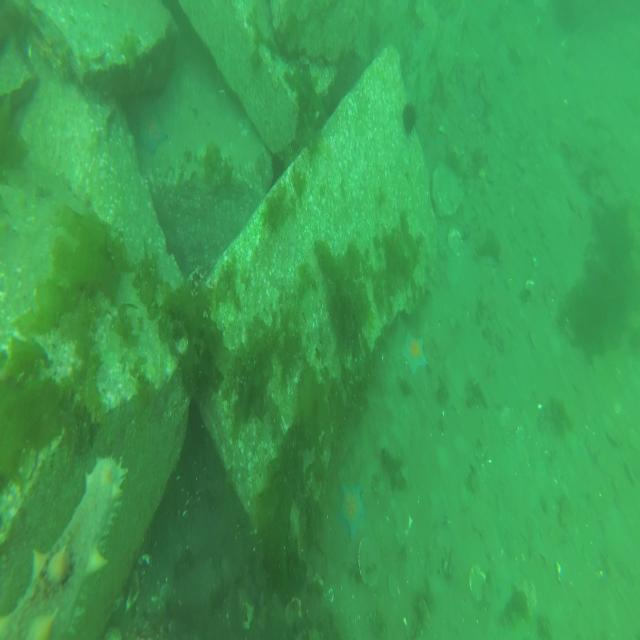echinus: (402, 97, 417, 136)
holothurian: (0, 451, 130, 640)
scallop: (358, 535, 382, 588), (468, 562, 487, 603), (448, 226, 465, 257)
starfish: (338, 478, 367, 541), (134, 111, 169, 153), (400, 327, 429, 377)
